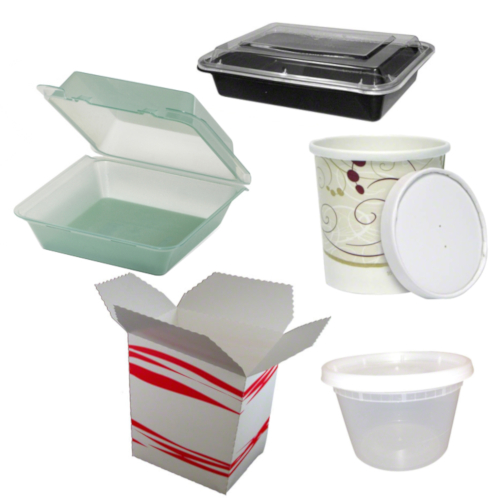styrofoam: (11, 67, 258, 278)
